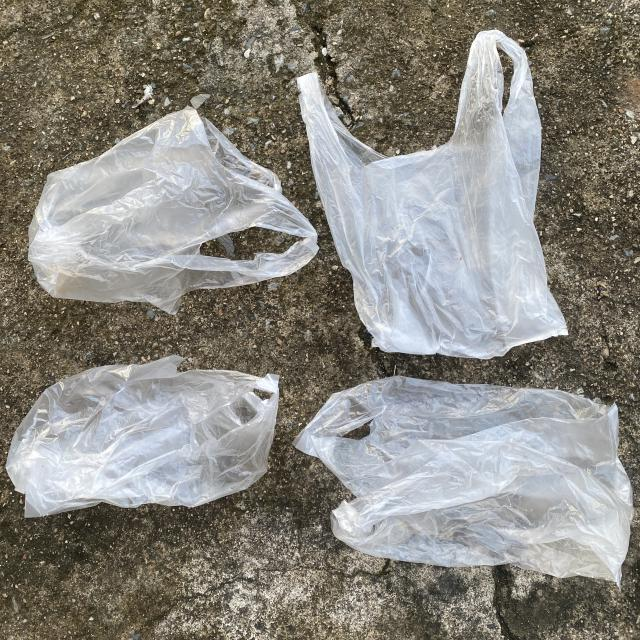Single-layer Plastic: (298, 30, 568, 359), (295, 376, 634, 584), (29, 108, 318, 314), (6, 356, 279, 518)
